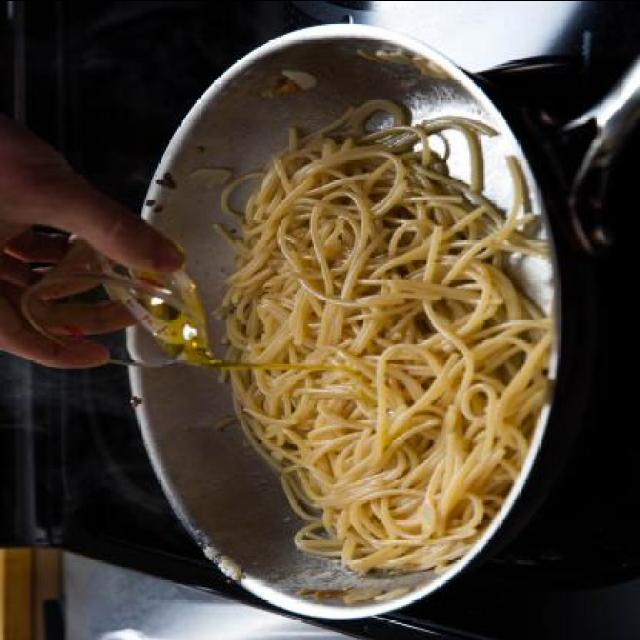Oil pasta: (86, 42, 569, 580)
